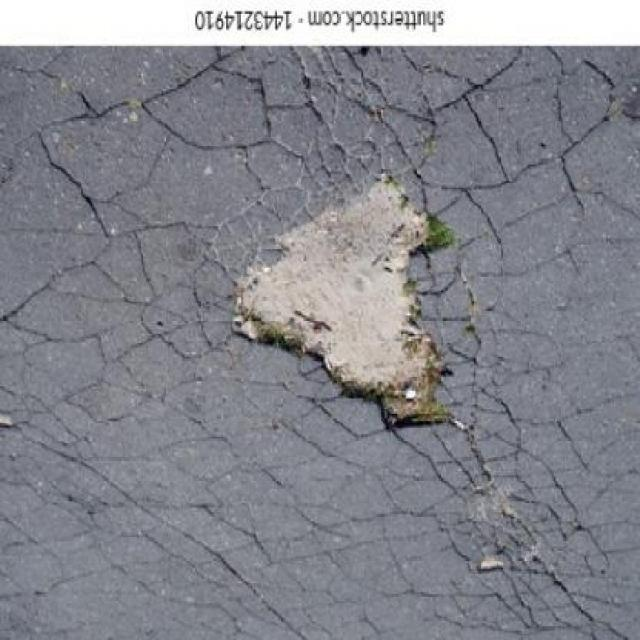Pothole: (232, 175, 454, 426)
